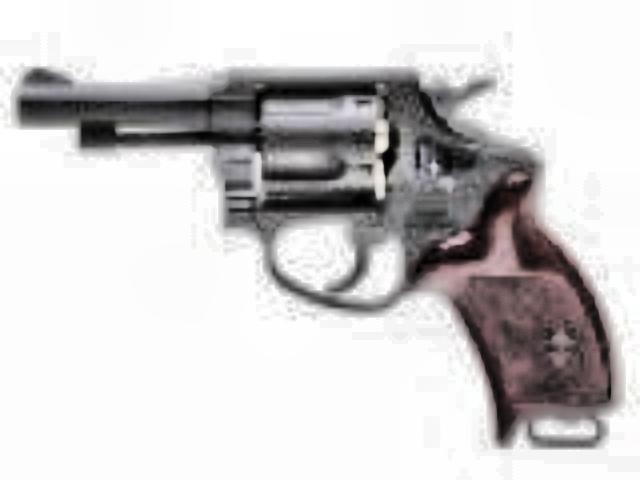pistol: (12, 56, 628, 444)
